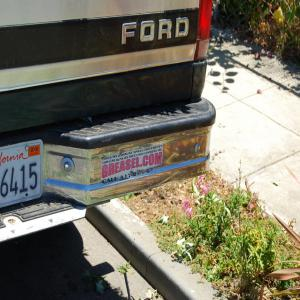Vehicle-registration-plate: (4, 140, 39, 213)
